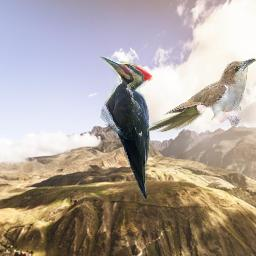Cuckoo: (146, 58, 256, 132)
Woodpecker: (98, 55, 153, 200)
